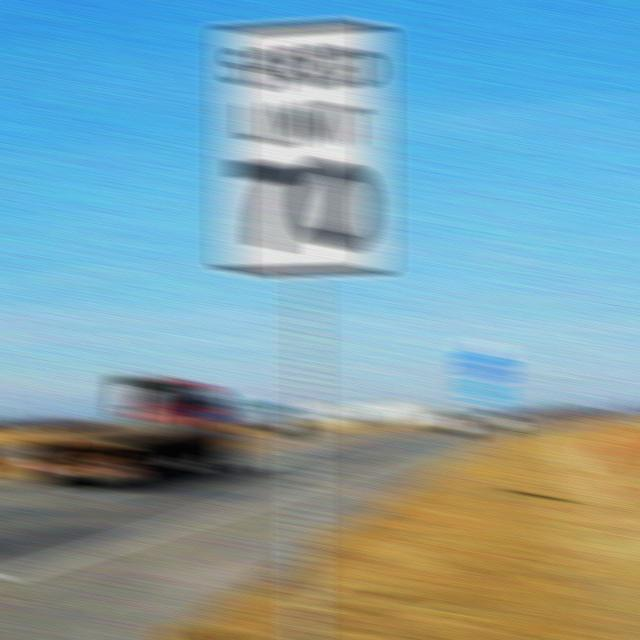speedLimit70: (231, 41, 374, 257)
